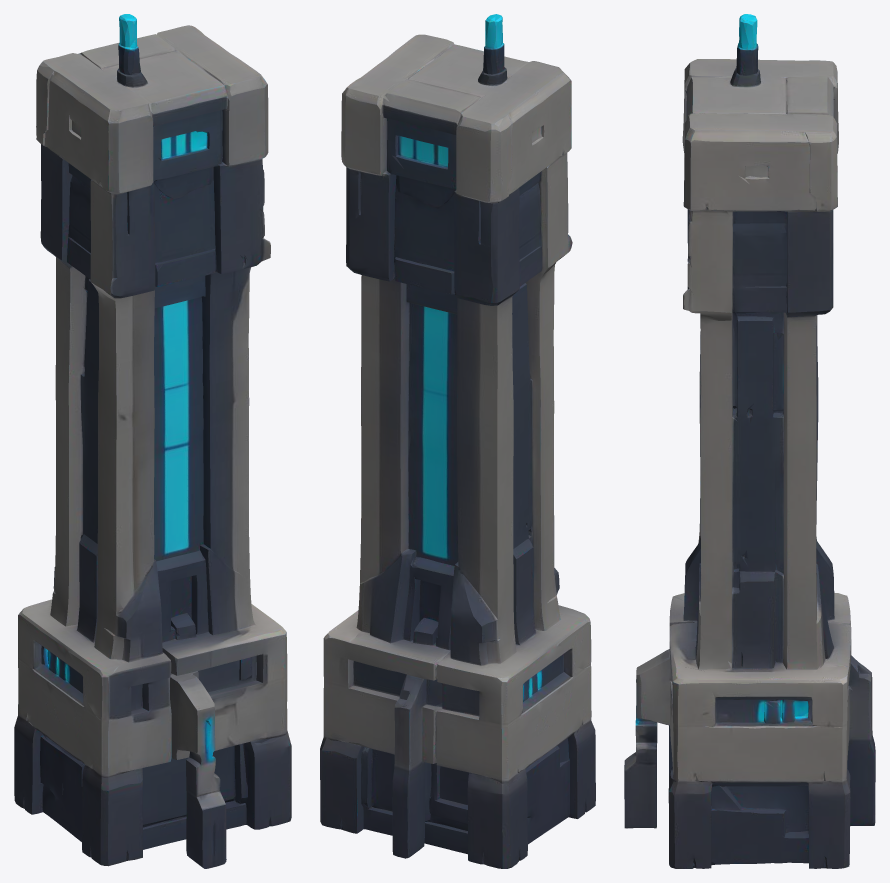
3 renders of one model, left to right at view 1: azimuth 30°, elevation 25°; view 2: azimuth 150°, elevation 25°; view 3: azimuth 270°, elevation 25°, orthographic.
Parts seen in each view (by area): view 1: Mesh; view 2: Mesh; view 3: Mesh.
Part boxes in pixels (bbox=[...]): Mesh: bbox=[14, 14, 291, 868]; Mesh: bbox=[320, 14, 595, 868]; Mesh: bbox=[624, 14, 875, 868].
Size of the model in its own units: 0.4692 by 1.9 by 0.5432.
1 material, 1 textured.
